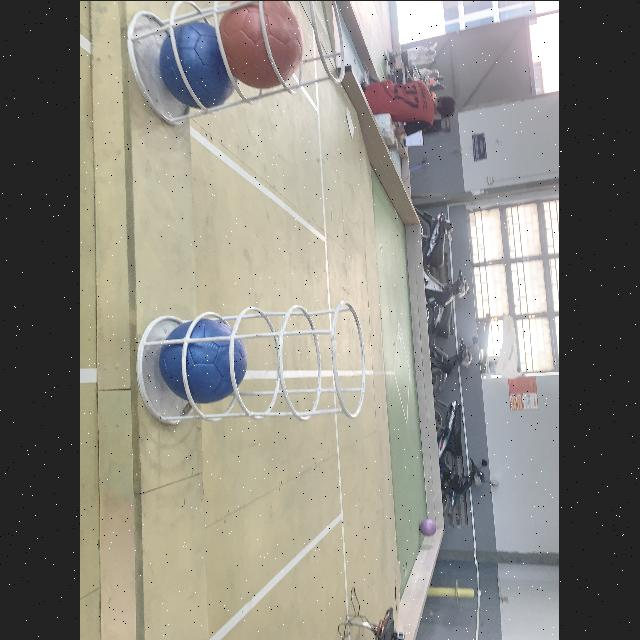B: (158, 319, 248, 405), (161, 20, 237, 108)
R: (217, 0, 307, 90)
